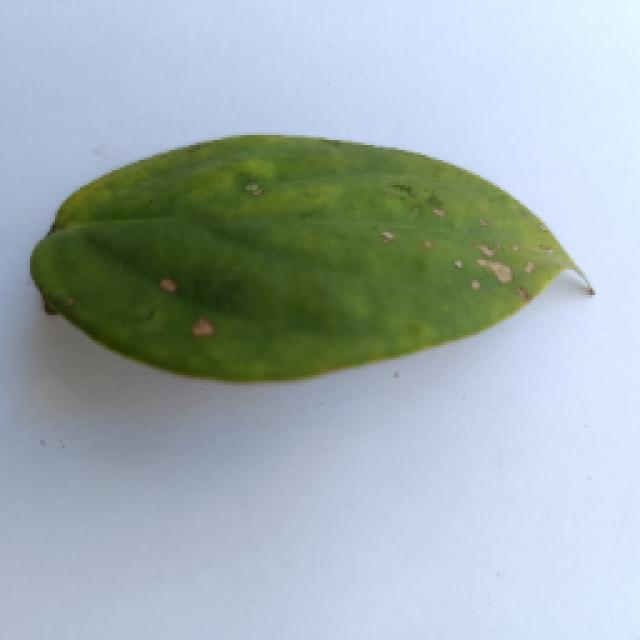slow-decline: (17, 118, 605, 408)
